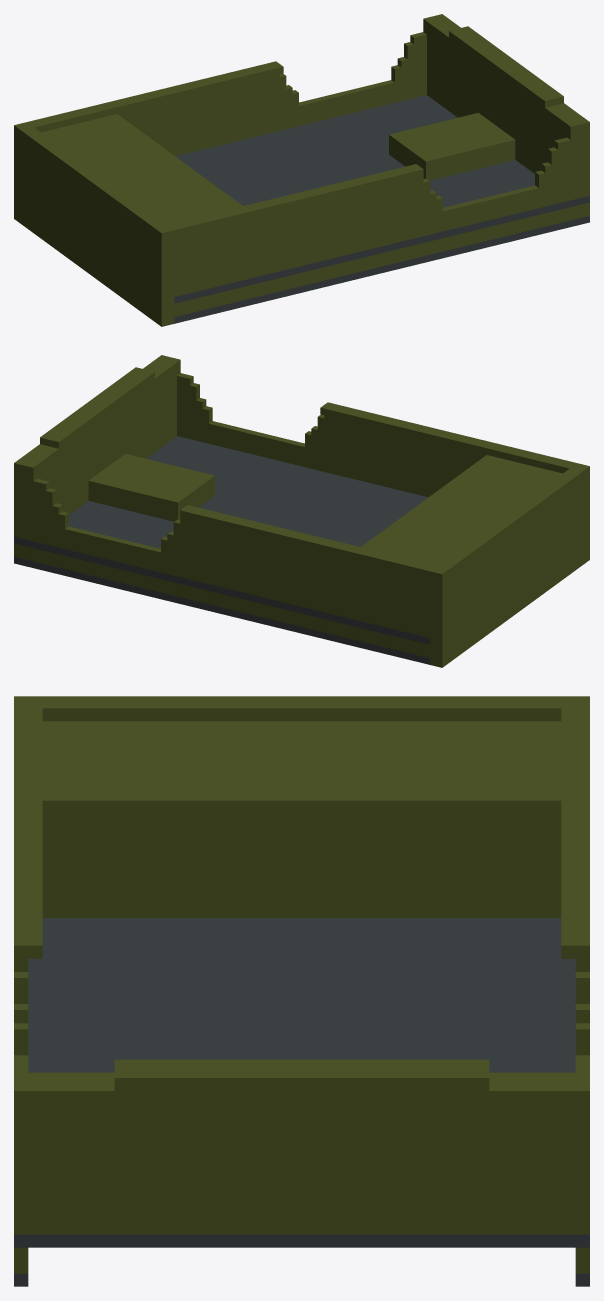
The model's file is army_jeep_tub.glb.
3 renders of one model, top to bottom at view 1: azimuth 30°, elevation 25°; view 2: azimuth 150°, elevation 25°; view 3: azimuth 270°, elevation 25°, orthographic. The views are drawn at different scales.
Parts seen in each view (by area): view 1: body:compound; view 2: body:compound; view 3: body:compound.
Part boxes in pixels (left/top/right/bottom): body:compound: left=14, top=14, right=589, bottom=326; body:compound: left=14, top=355, right=589, bottom=667; body:compound: left=14, top=696, right=589, bottom=1286.
Bounding box in the file's own units: 2.09 × 0.5 × 1.25.
